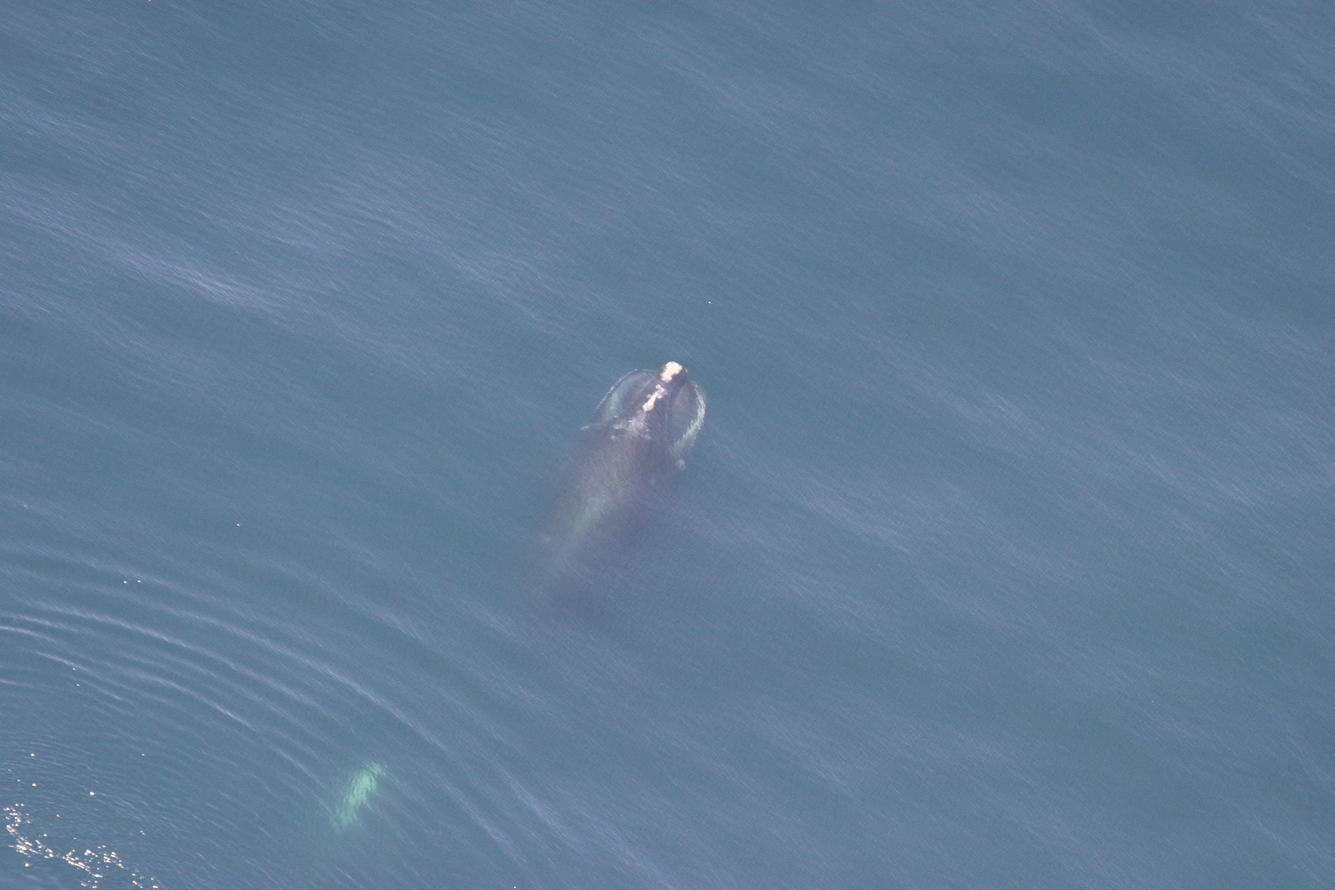whale: (479, 356, 719, 670)
